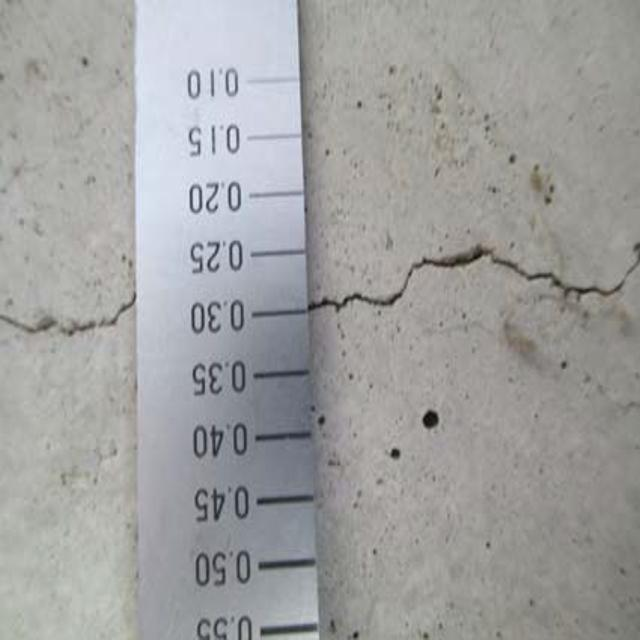crack: (307, 231, 640, 336), (1, 269, 143, 370)
